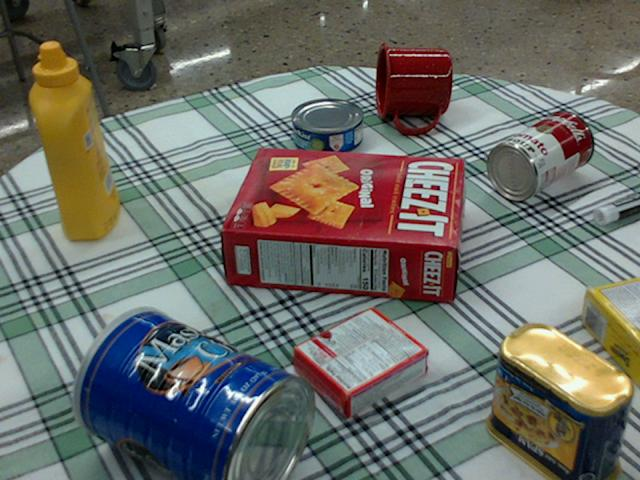cracker_box: (219, 145, 464, 303)
gelatin_box: (292, 307, 429, 414)
large_marker: (593, 194, 639, 223)
master_chef_can: (70, 308, 313, 479)
mug: (373, 42, 452, 132)
mustard_bottle: (29, 42, 119, 240)
potted_meat_can: (486, 320, 633, 479)
sugar_box: (582, 278, 639, 390)
tomato_soup_can: (486, 110, 592, 199)
tuna_fish_can: (290, 98, 362, 154)
